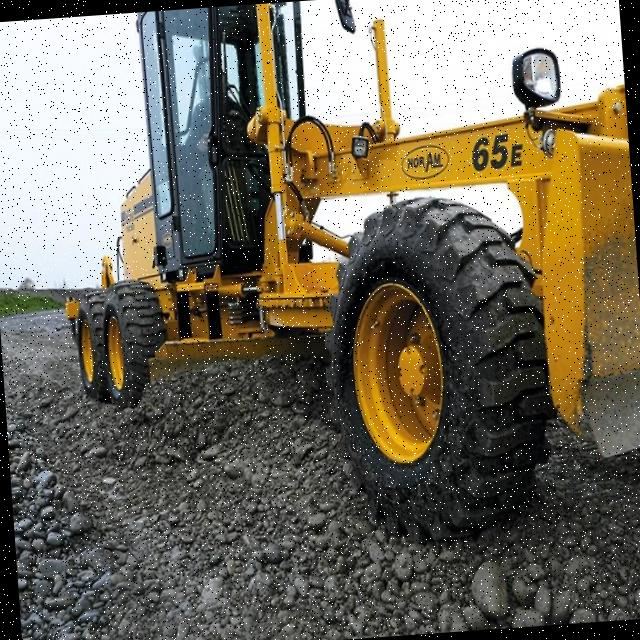Grader: (31, 0, 640, 614)
